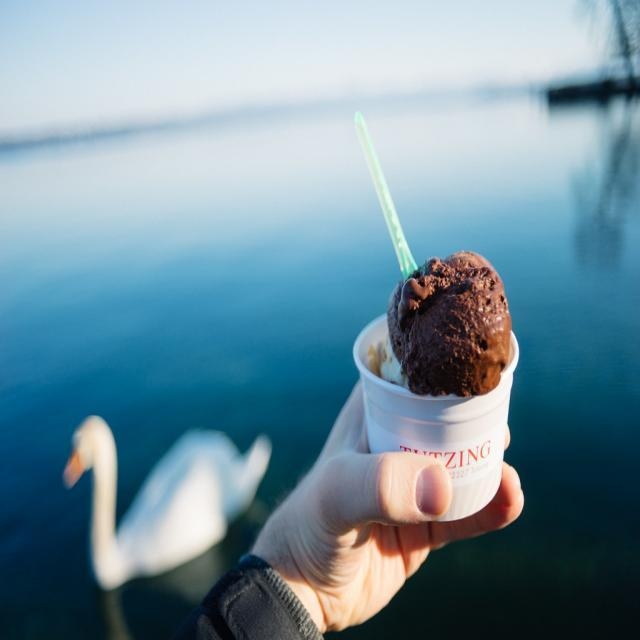Ice cream: (360, 242, 513, 400)
